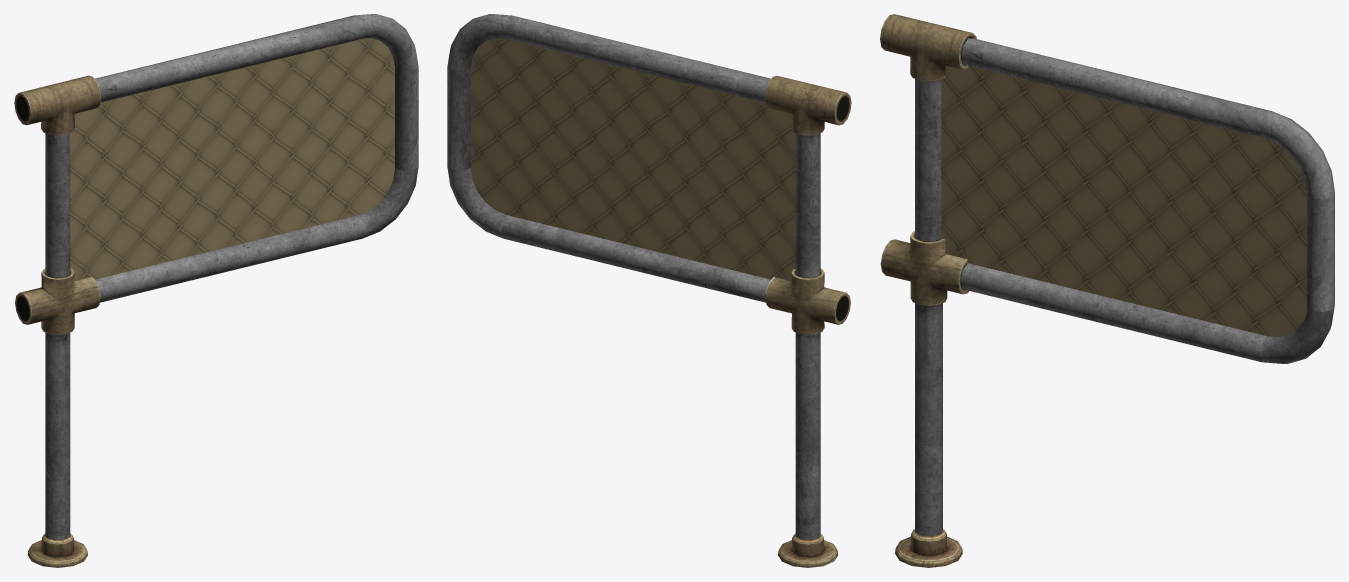
File: railing_pplant_end_short_chainlink.dae
The picture shows the model from 3 angles, left to right: view 1: azimuth 30°, elevation 25°; view 2: azimuth 150°, elevation 25°; view 3: azimuth 330°, elevation 25°; orthographic projection. The views are drawn at different scales.
Visible parts, largest first — view 1: railing_pplant_end_short_chainlink__2_; view 2: railing_pplant_end_short_chainlink__2_; view 3: railing_pplant_end_short_chainlink__2_.
Boxes of the visible parts, <box> form: railing_pplant_end_short_chainlink__2_: <box>14,14,418,567</box>; railing_pplant_end_short_chainlink__2_: <box>447,14,851,567</box>; railing_pplant_end_short_chainlink__2_: <box>880,14,1334,567</box>.
Bounding box in the file's own units: 1.31 × 1.49 × 0.1737.
